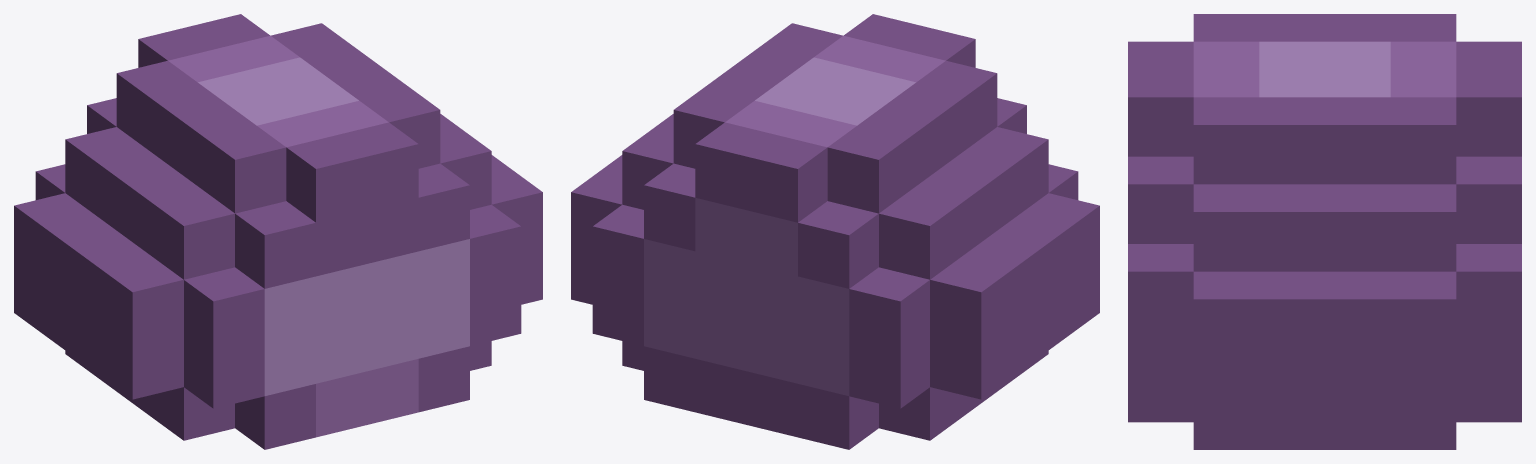
Rendered from mob.glb.
3 renders of one model, left to right at view 1: azimuth 30°, elevation 25°; view 2: azimuth 150°, elevation 25°; view 3: azimuth 270°, elevation 25°, orthographic. The views are drawn at different scales.
Size of the model in its own units: 8 by 5 by 6.
